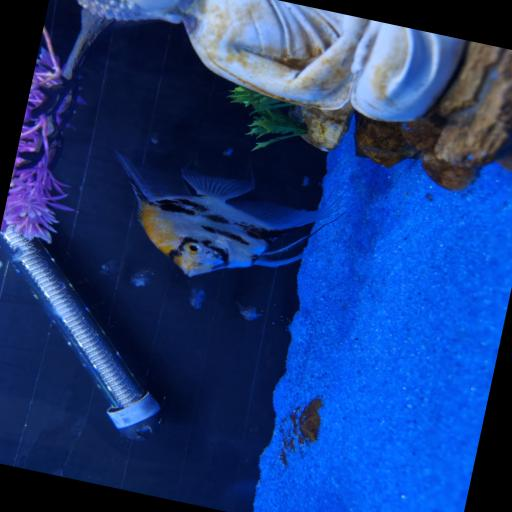Fish: (117, 151, 337, 275), (236, 301, 261, 320), (131, 269, 153, 286), (190, 287, 206, 307)
